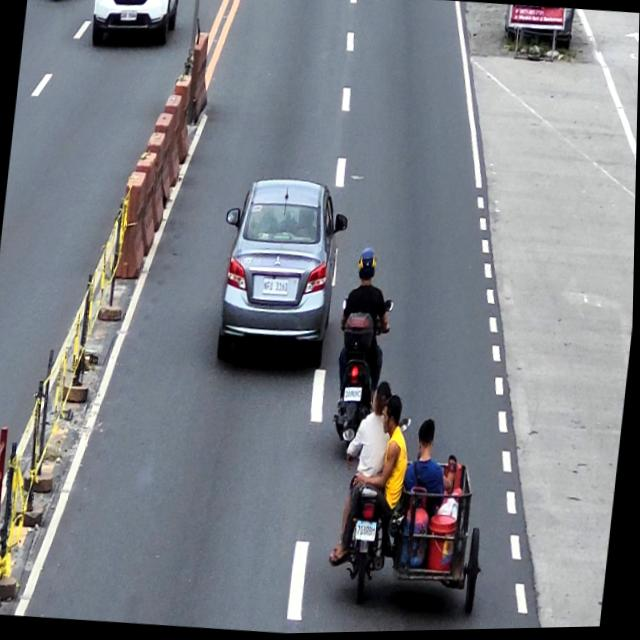Car: (211, 173, 352, 373), (88, 0, 179, 53)
License-Plate: (262, 278, 290, 297), (356, 521, 379, 543), (344, 388, 364, 405), (119, 10, 137, 22)
Motorcycle: (327, 296, 396, 457)
Tricycle: (326, 412, 499, 621)
